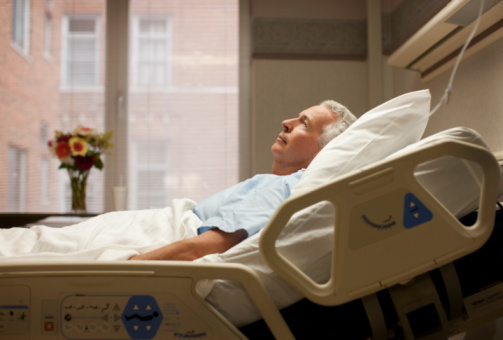deitado: (115, 82, 395, 320)
